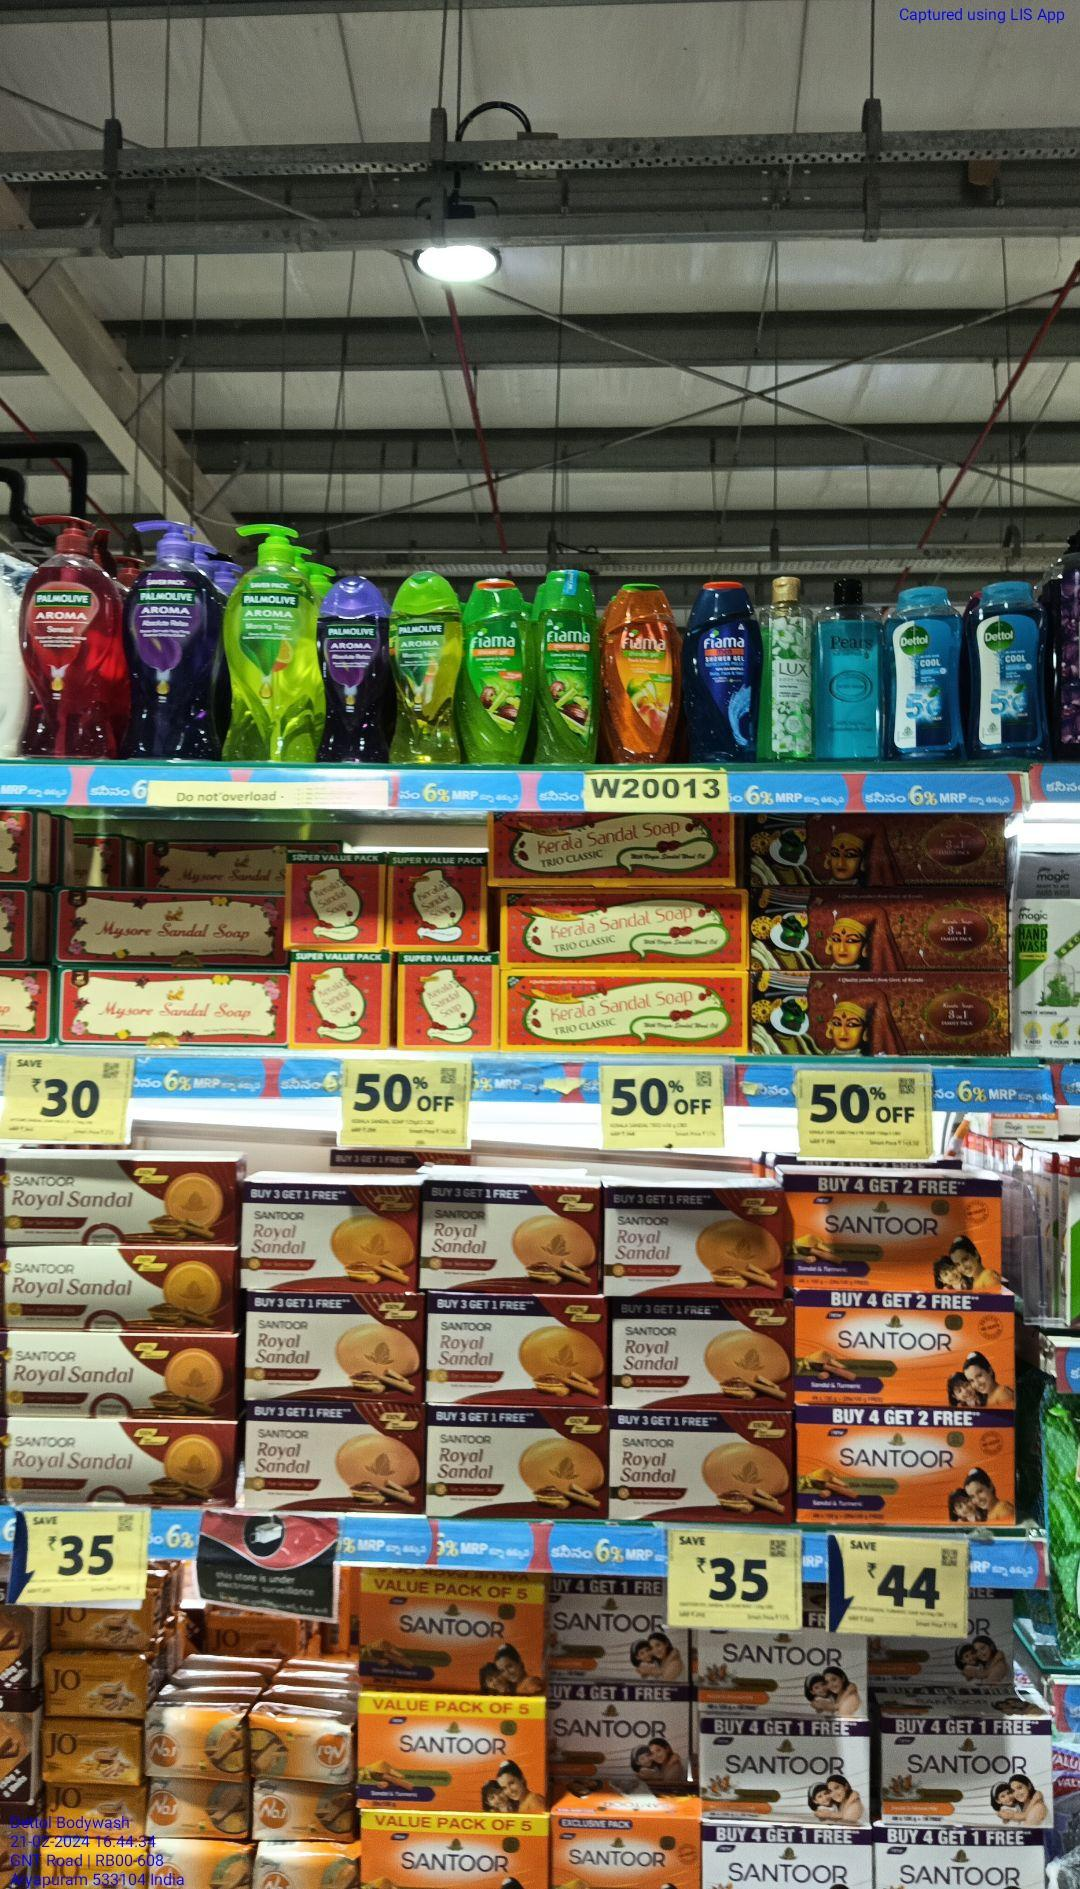Dettol_Bodywash_Cool: (970, 577, 1050, 763), (887, 581, 966, 767)
Fiama_Shower_Gel_Lemongrass_and_Jojoba_250ML: (462, 575, 532, 763)
Fiama_Shower_Gel_Peach_and_Avocado_250ML: (601, 577, 679, 764)
Lux_Body_Wash_Skin_Detox_Freesia_Scent_and_Alove_Vera_245ML: (761, 575, 814, 762)
Palmolive_Aroma_Morning_Tonic_Shower_Gel_250ML: (388, 567, 462, 763)
Palmolive_Aroma_Relax_250ML: (314, 575, 389, 763)
Pears_Pure_Glycerin_and_Mint_Extracts_Body_Wash_250ML: (811, 575, 887, 763)
